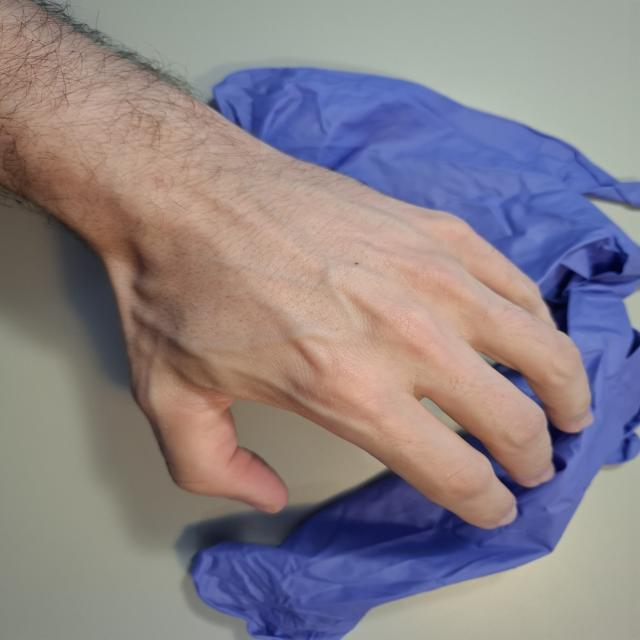glove_off: (93, 158, 597, 532)
